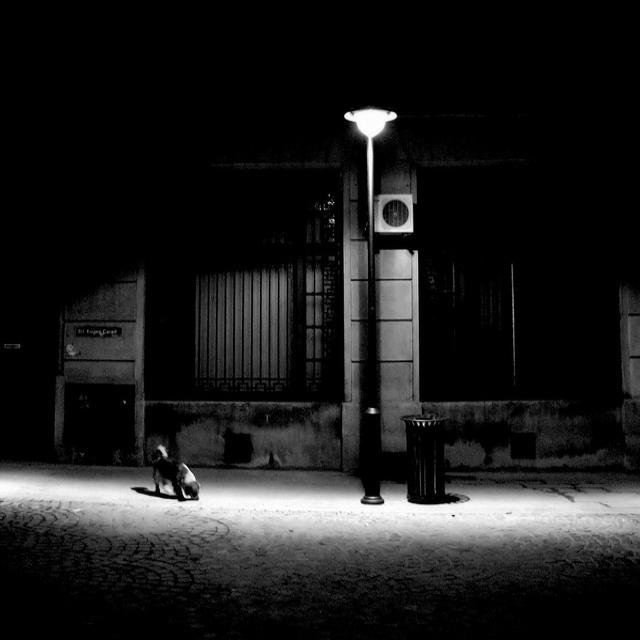Dog: (120, 423, 232, 520)
